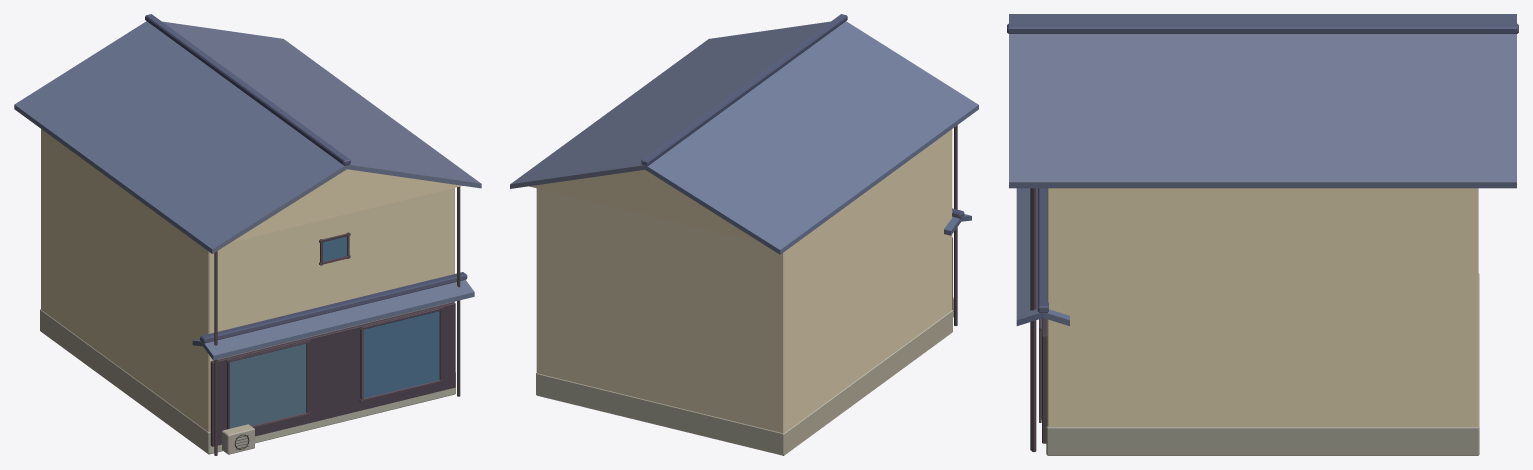
The model's file is ART_WhiteStorehouse.lod.glb.
3 views of the same model, side by side, from view 1: azimuth 30°, elevation 25°; view 2: azimuth 150°, elevation 25°; view 3: azimuth 270°, elevation 25° (orthographic). The views are drawn at different scales.
Visible parts, largest first — view 1: ART_WhiteStorehouse; view 2: ART_WhiteStorehouse; view 3: ART_WhiteStorehouse.
Boxes of the visible parts, x1,y1,x2,y2 form: ART_WhiteStorehouse: [14, 14, 481, 455]; ART_WhiteStorehouse: [510, 14, 978, 455]; ART_WhiteStorehouse: [1007, 14, 1518, 455].
Bounding box in the file's own units: 7.85 × 7.68 × 10.08.
